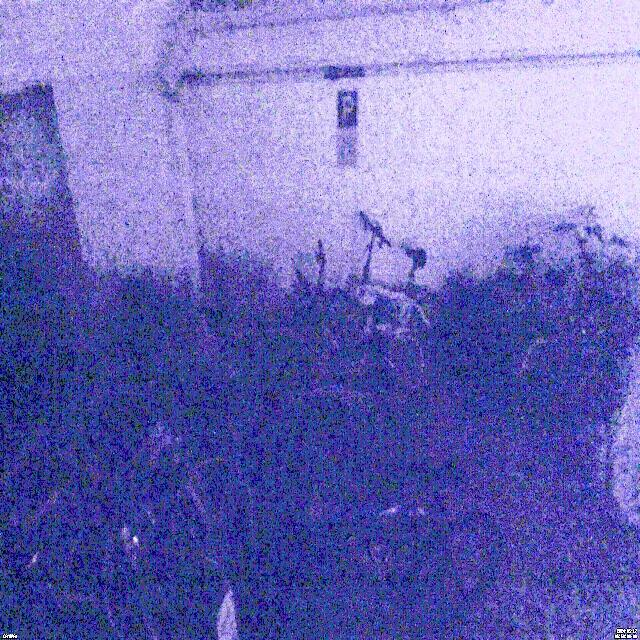bike: (338, 212, 458, 368)
